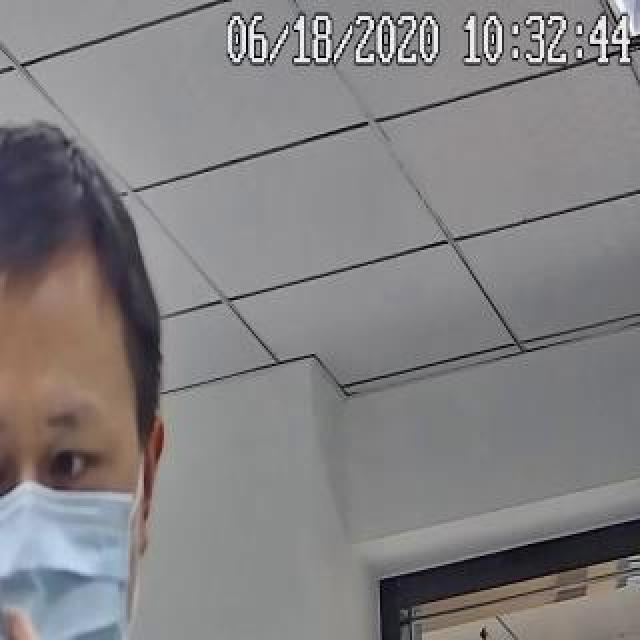Guns: (0, 404, 82, 640)
